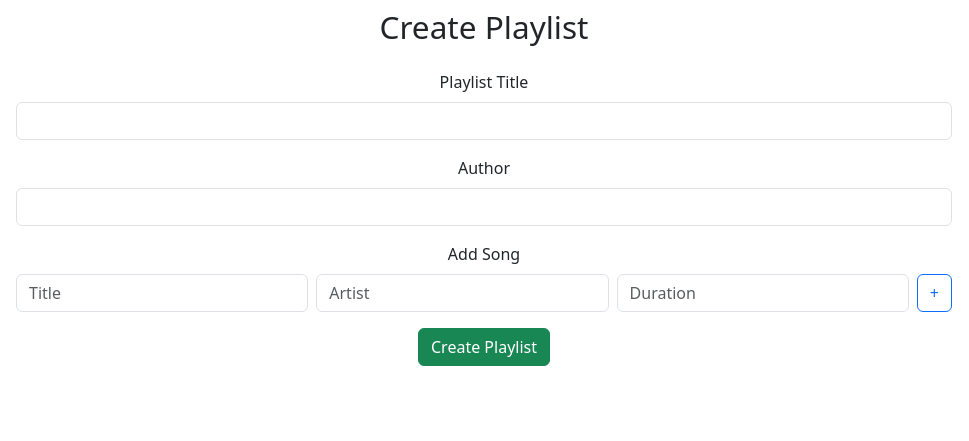
CreatePlaylist Component › adds a song to the list when all fields are filled
Type "Song A" into the field with placeholder "Title" at (162, 293), box [16,274,308,312]
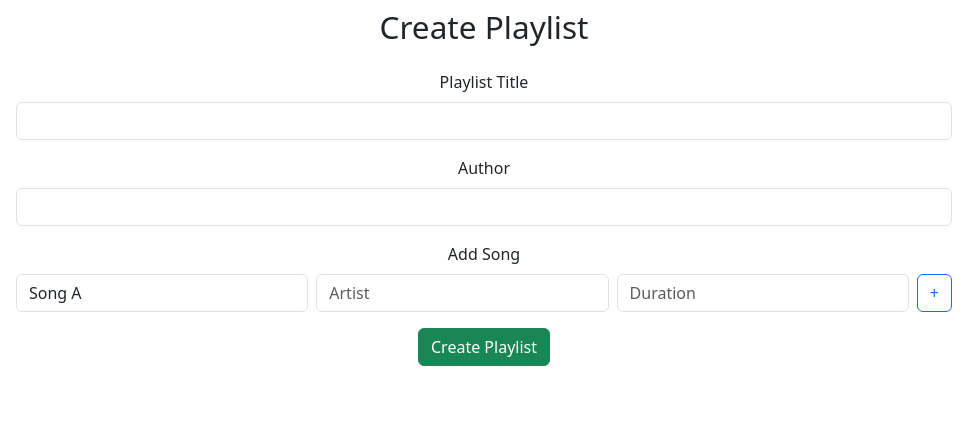
Type "Artist A" into the field with placeholder "Artist" at (462, 293), box [316,274,609,312]
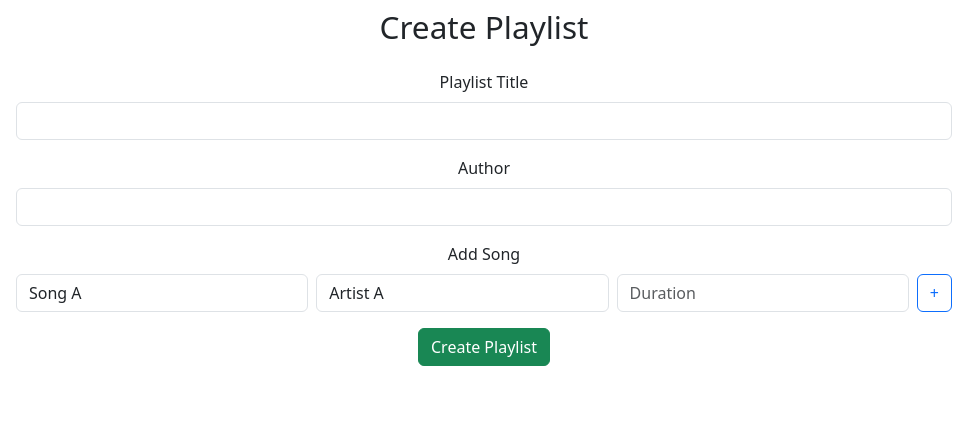
Type "3:30" into the field with placeholder "Duration" at (763, 293), box [617,274,909,312]
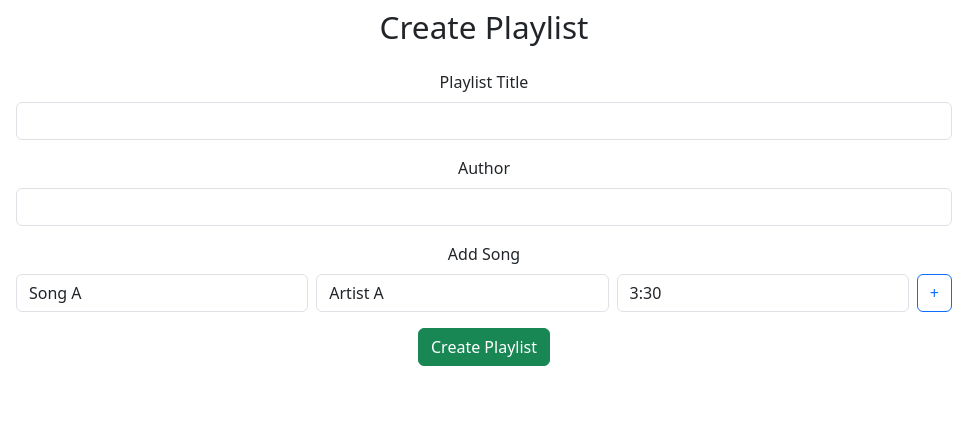
Click the button "+" at (934, 293), box [917,274,952,312]
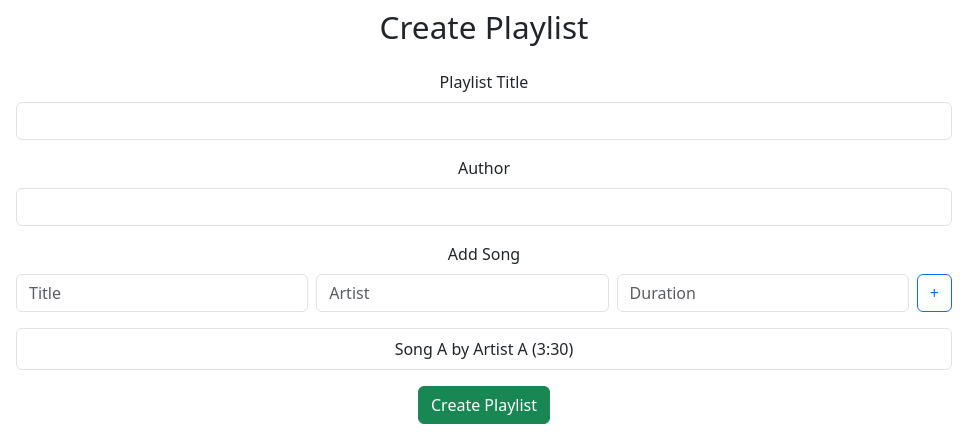
Expected: the list item "Song A by Artist A (3:30)" is shown, [16,328,952,370]
